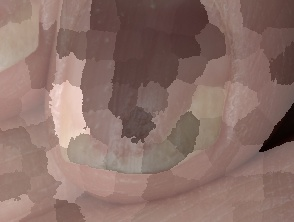Nail_psoriasis: (68, 5, 234, 176)
